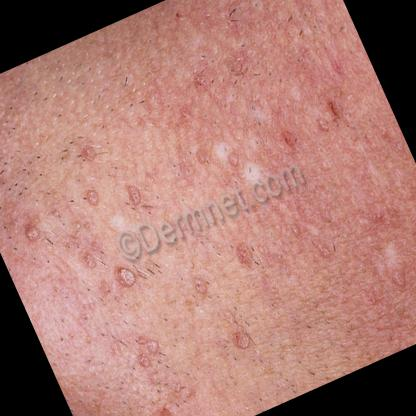Warts: (107, 251, 148, 303), (17, 217, 51, 252)
